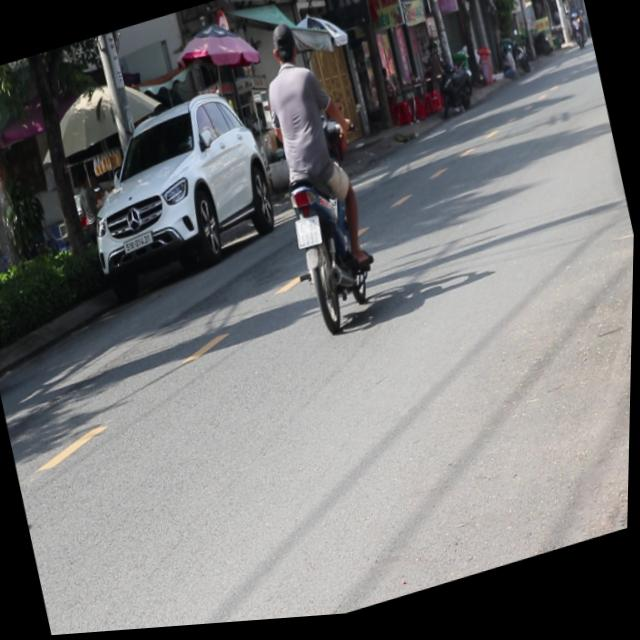licenseplate: (240, 9, 393, 345)
motorcyclist: (265, 22, 302, 76)
nohelmet: (293, 218, 324, 254)
